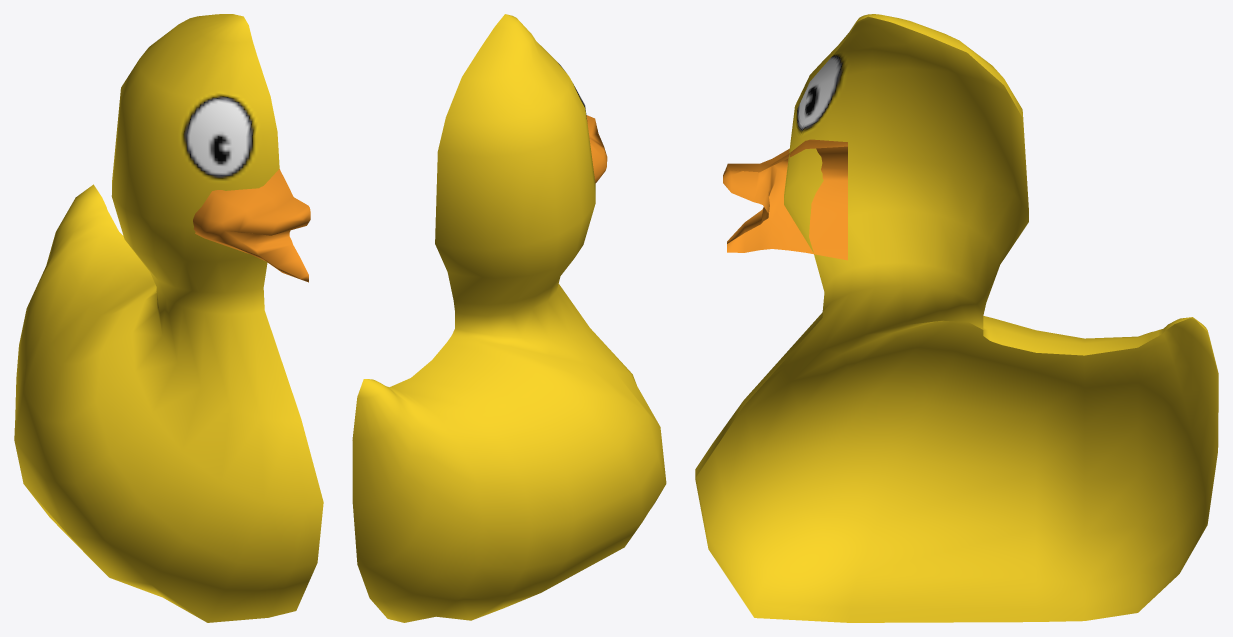
The model's file is RubberDuck_Final.FBX.
3 renders of one model, left to right at view 1: azimuth 30°, elevation 25°; view 2: azimuth 150°, elevation 25°; view 3: azimuth 270°, elevation 25°, orthographic. The views are drawn at different scales.
Visible parts, largest first — view 1: Cylinder001; view 2: Cylinder001; view 3: Cylinder001.
Part boxes in pixels (x1,y1,x2,y2): Cylinder001: (14,14,323,622); Cylinder001: (352,14,666,622); Cylinder001: (695,14,1218,622).
Bounding box in the file's own units: 4.71 × 14.73 × 11.53.
1 material, 1 textured.
